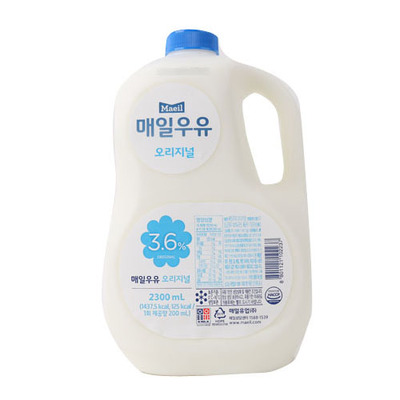milk: (101, 27, 311, 376)
